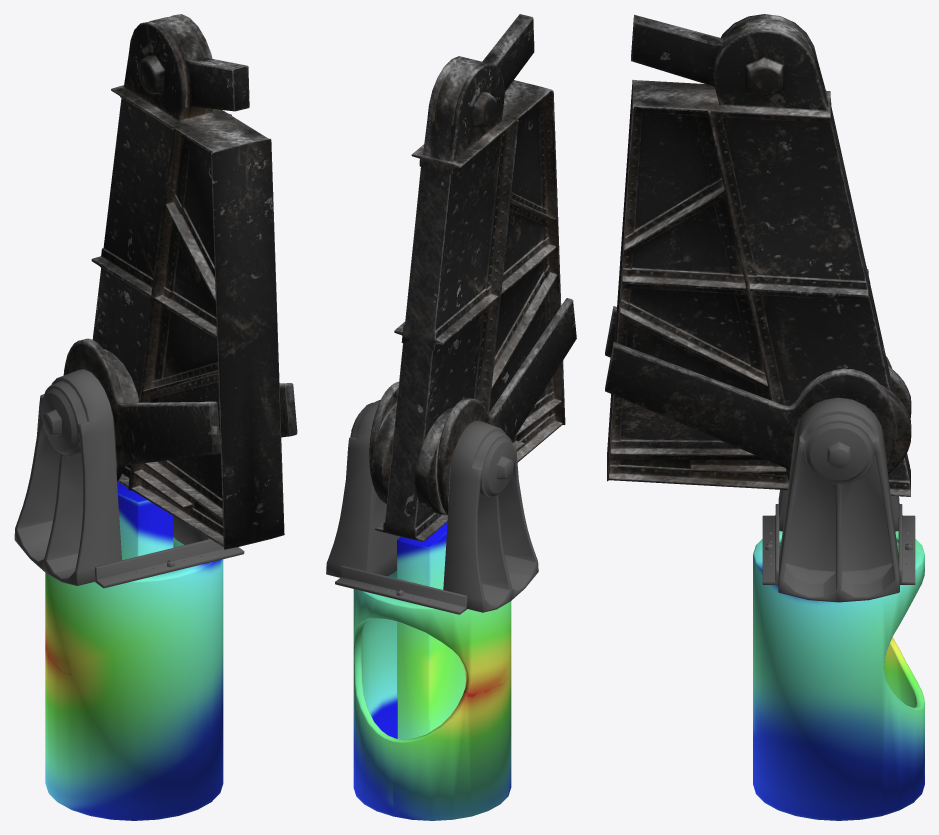
File: assets_v2-1.glb
3 views of the same model, side by side, from view 1: azimuth 30°, elevation 25°; view 2: azimuth 150°, elevation 25°; view 3: azimuth 270°, elevation 25° (orthographic). The views are drawn at different scales.
Parts seen in each view (by area): view 1: RockerWasher_LOD001; view 2: RockerWasher_LOD001; view 3: RockerWasher_LOD001.
Boxes of the visible parts, x1,y1,x2,y2 form: RockerWasher_LOD001: (14, 14, 297, 820); RockerWasher_LOD001: (326, 14, 576, 820); RockerWasher_LOD001: (605, 14, 924, 820).
Size of the model in its own units: 1.16 by 4.92 by 1.86.
2 materials, 2 textured.
